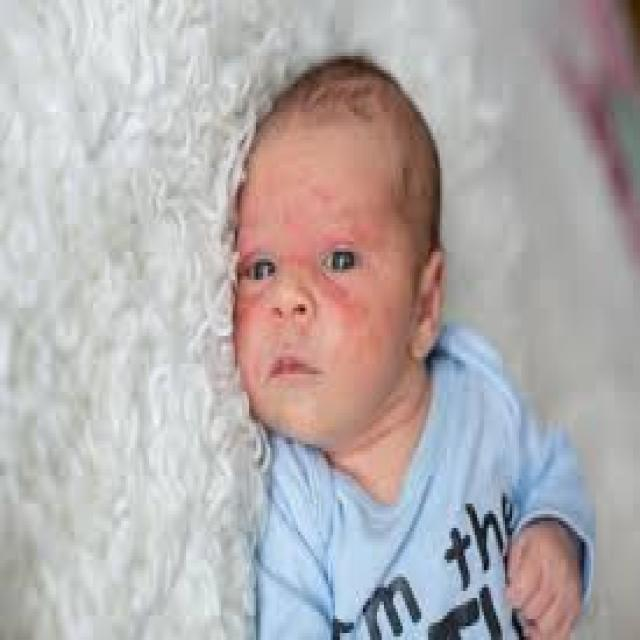Eczema: (327, 276, 383, 364), (237, 296, 258, 331)
